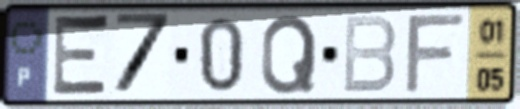0: (195, 15, 248, 95)
7: (112, 10, 174, 101)
B: (340, 13, 400, 97)
E: (49, 10, 113, 101)
F: (401, 11, 469, 97)
Q: (257, 12, 320, 98)
